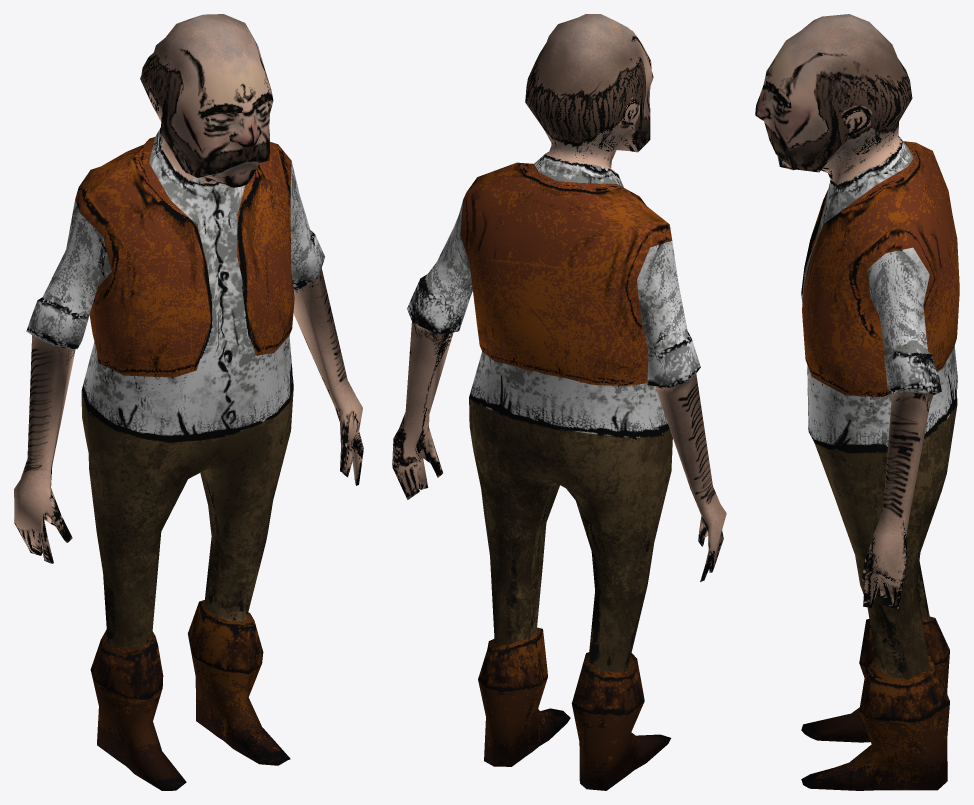
The model's file is low_male_villager.fbx.
3 renders of one model, left to right at view 1: azimuth 30°, elevation 25°; view 2: azimuth 150°, elevation 25°; view 3: azimuth 270°, elevation 25°, orthographic. The views are drawn at different scales.
Visible parts, largest first — view 1: low_male_villager; view 2: low_male_villager; view 3: low_male_villager.
Part boxes in pixels (box(x1,y1,x2,y2)): low_male_villager: box(14, 14, 363, 790); low_male_villager: box(392, 14, 726, 790); low_male_villager: box(755, 14, 959, 790).
Size of the model in its own units: 23.74 by 49.85 by 12.5.
